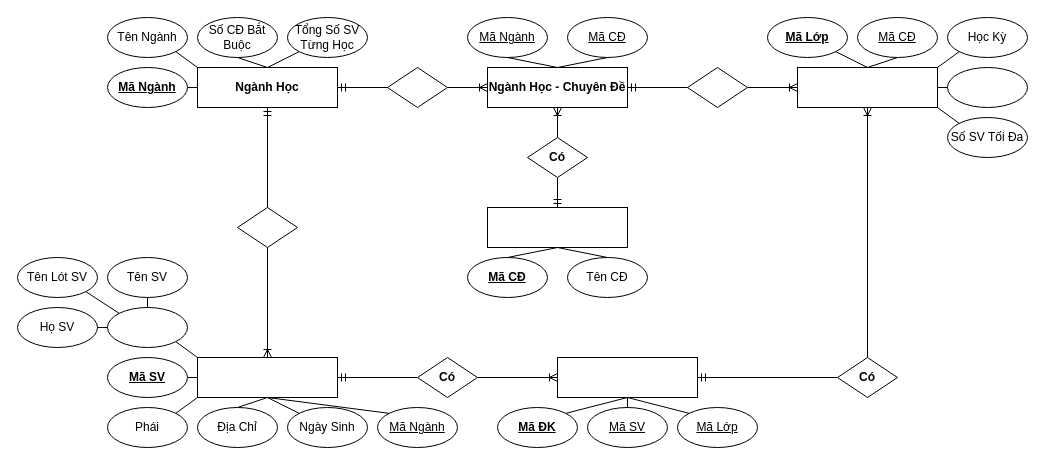
Some shapes in this 1045 by 465 pixel diagram are drawn without their labels. The centre of each missing label's shape, as x and y in pixels:
(Họ Tên): pixel 147 327
Chuyên Đề: pixel 557 227
Gồm: pixel 417 87
Lớp học: pixel 867 87
Mở: pixel 717 87
Năm Học: pixel 987 87
Sinh Viên: pixel 267 377
Thuộc: pixel 267 227
Đăng Ký: pixel 627 377
